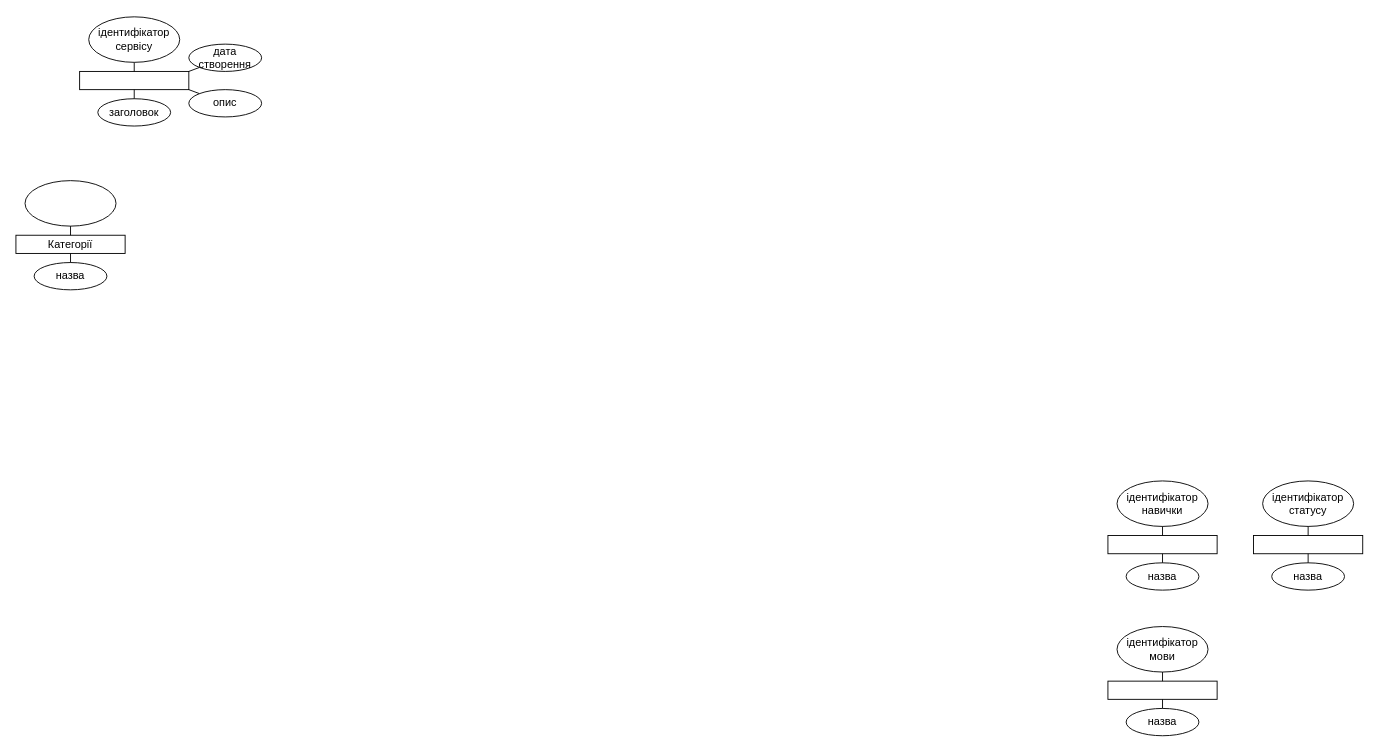
Image size: 1379x752. Some labels were removed from this diagram. Each missing label, with the box of its shape:
Мови: (1107, 680, 1217, 699)
Навички: (1107, 535, 1217, 554)
Сервіси: (79, 71, 189, 90)
Статуси замовлення: (1253, 535, 1363, 554)
ідентифікатор категорії: (24, 180, 116, 226)
